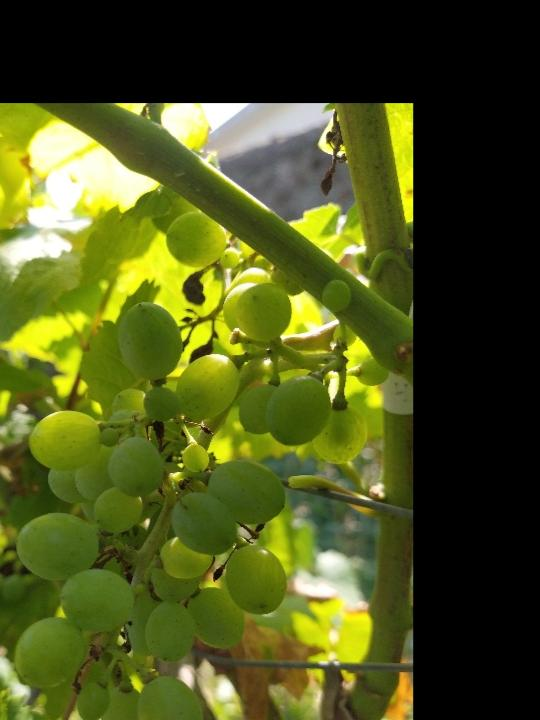grape: (10, 212, 392, 720)
